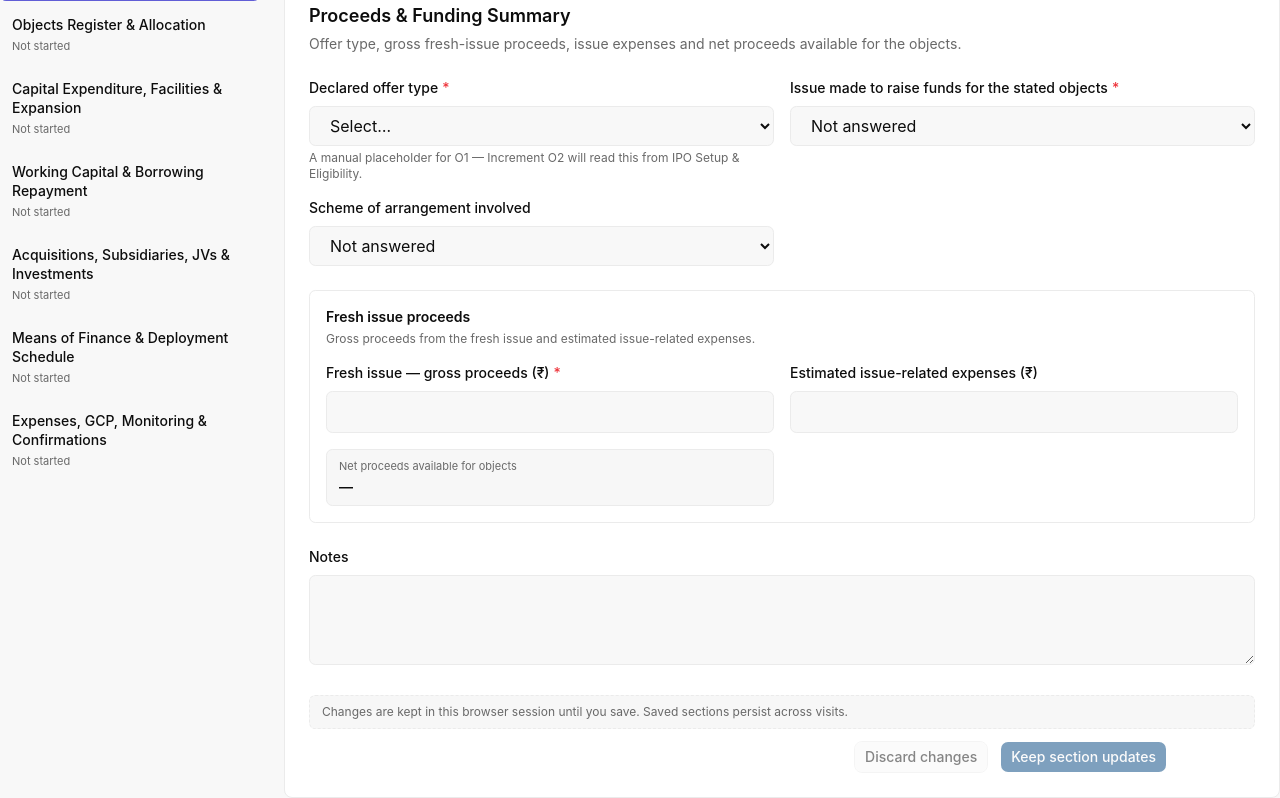
Test: Objects of the Issue workstream UI (O2 API-backed) › saves a section via the API and clears dirty state
(page scrolled)
In the text box labelled "Notes": (782,620) [309, 574, 1255, 664], type "Saved note"
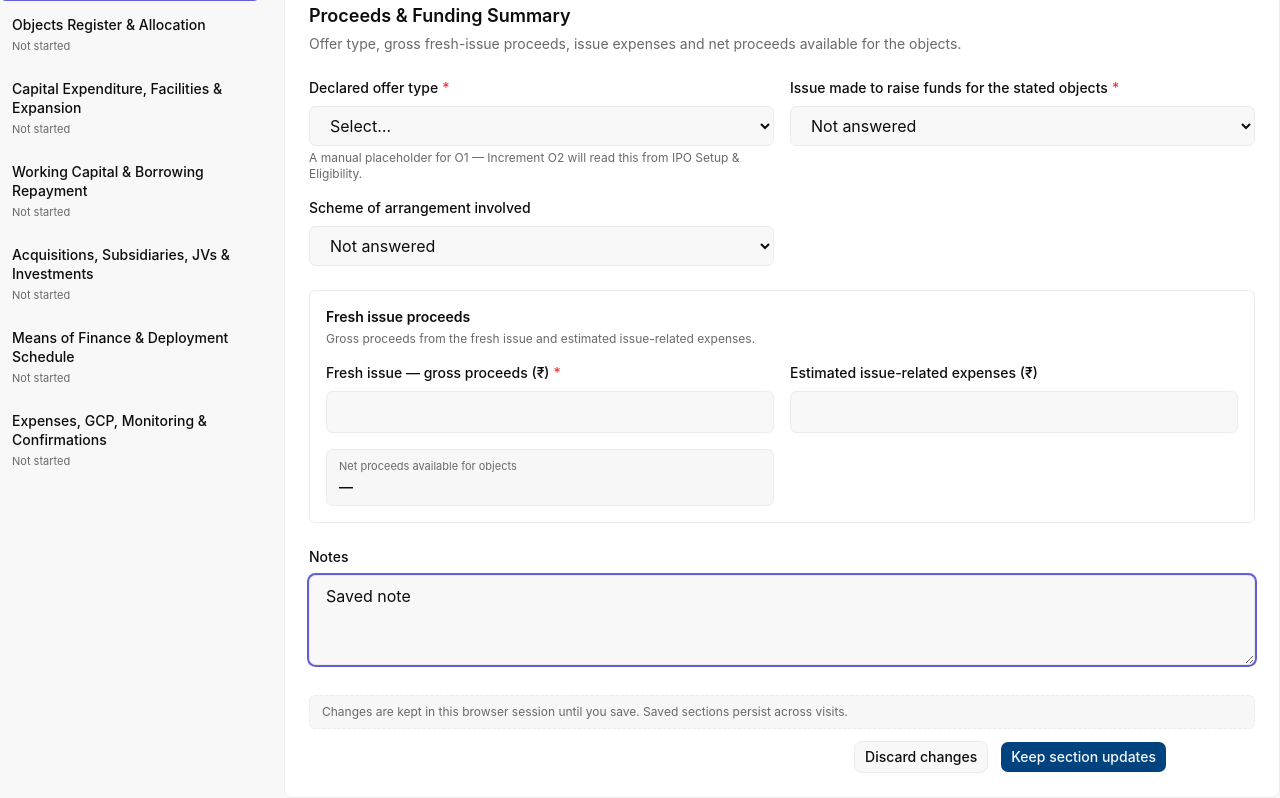
Click the button "Keep section updates": (1084,756) [1000, 740, 1167, 772]
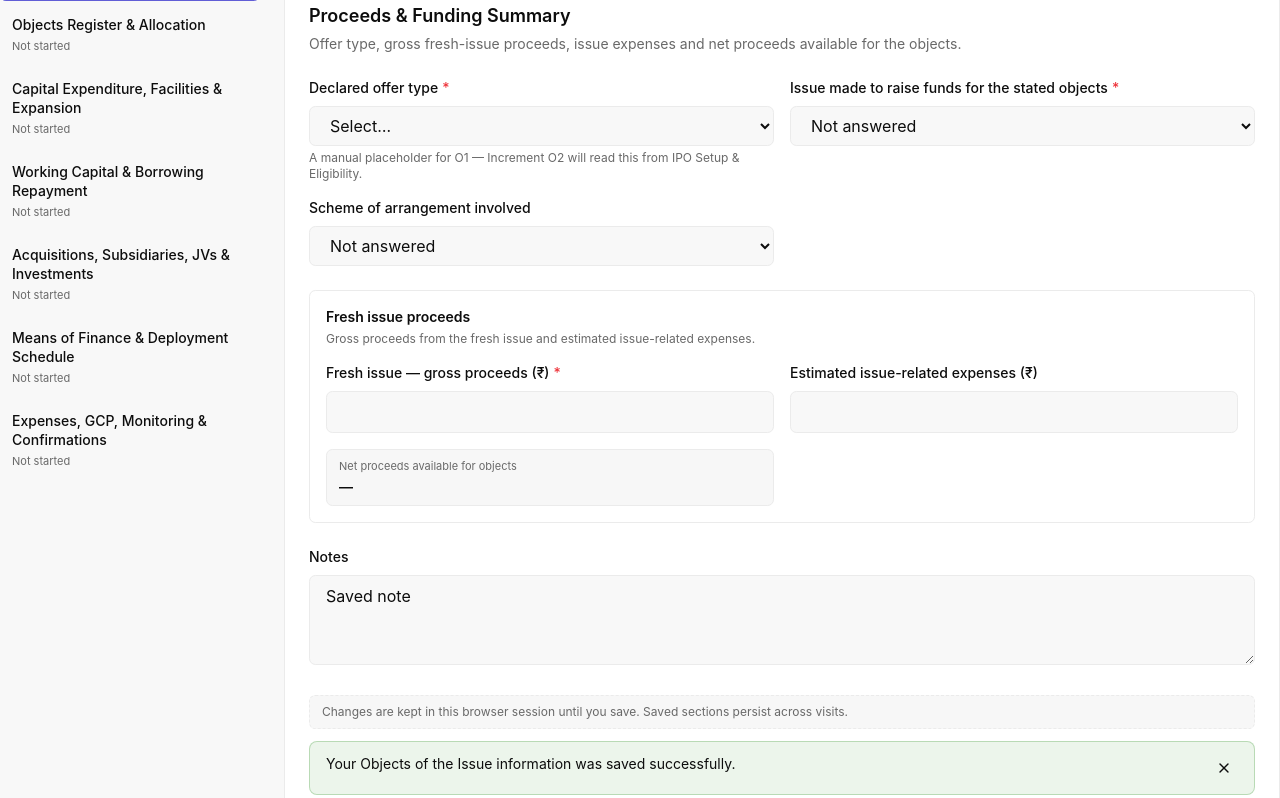
expect the text "Your Objects of the Issue information was saved successfully." is shown: met, box [326, 754, 736, 774]
